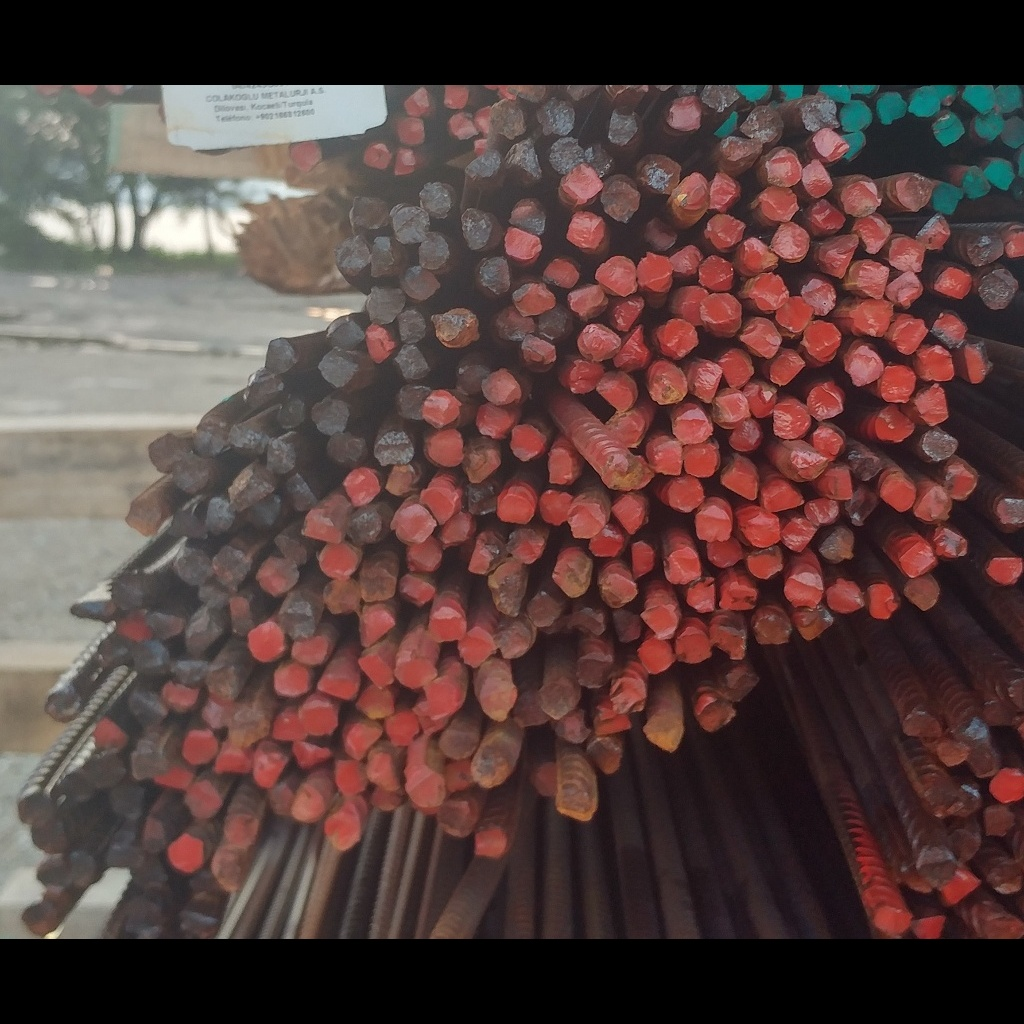dipstick: (641, 357, 695, 407), (839, 337, 887, 391), (224, 463, 275, 513), (802, 231, 864, 272), (487, 560, 532, 615), (793, 270, 842, 319), (435, 306, 485, 354), (846, 257, 898, 303), (785, 93, 843, 133), (732, 503, 782, 549), (254, 555, 306, 599), (559, 162, 612, 205), (574, 646, 621, 694), (819, 523, 865, 572), (845, 296, 894, 342), (212, 843, 257, 893), (636, 146, 681, 196), (321, 797, 363, 850), (601, 449, 658, 488), (600, 170, 641, 224), (716, 452, 763, 499), (758, 470, 807, 515), (486, 301, 538, 343), (684, 356, 732, 401), (765, 345, 814, 389), (800, 316, 843, 366), (669, 171, 711, 222), (704, 292, 747, 341), (706, 613, 748, 663), (823, 572, 865, 622), (955, 334, 996, 385), (393, 502, 439, 547), (387, 199, 434, 243), (534, 484, 578, 531), (351, 645, 399, 688), (659, 547, 707, 590), (664, 473, 707, 521), (672, 398, 715, 446), (738, 104, 787, 146), (977, 264, 1017, 315), (750, 183, 801, 223), (457, 206, 501, 252), (882, 230, 929, 273), (912, 340, 954, 388), (472, 255, 514, 303), (615, 322, 655, 372), (493, 619, 538, 663), (656, 316, 700, 361), (564, 495, 607, 541), (886, 310, 928, 357), (289, 778, 330, 826), (889, 169, 930, 217), (311, 397, 360, 437), (323, 432, 373, 471), (961, 226, 1005, 270), (606, 491, 649, 536), (553, 552, 595, 598), (913, 381, 954, 428), (515, 331, 562, 372), (743, 272, 790, 313), (214, 544, 254, 592), (806, 197, 854, 237), (838, 177, 886, 217), (298, 507, 347, 546), (392, 340, 435, 384), (244, 494, 287, 538), (693, 499, 736, 543), (739, 312, 782, 356), (535, 298, 579, 341), (565, 210, 608, 254), (596, 252, 639, 296), (849, 210, 892, 254), (754, 605, 796, 650), (879, 471, 921, 516), (979, 853, 1021, 898), (771, 444, 830, 476), (345, 190, 391, 231), (453, 350, 494, 396), (773, 294, 819, 335), (343, 716, 383, 763), (481, 671, 517, 723), (906, 572, 945, 620), (891, 538, 939, 577), (599, 559, 637, 608), (63, 594, 123, 625), (555, 779, 598, 822), (645, 710, 687, 754), (838, 484, 880, 528), (564, 354, 608, 396), (589, 522, 634, 563), (577, 318, 622, 359), (736, 234, 781, 275), (771, 220, 811, 266), (916, 780, 962, 820), (639, 635, 682, 677), (537, 93, 580, 135), (364, 285, 408, 326), (698, 698, 742, 739), (942, 461, 986, 502), (594, 371, 638, 412), (914, 213, 955, 257), (440, 726, 490, 762), (913, 425, 963, 461), (716, 342, 756, 387), (505, 194, 550, 234), (943, 863, 982, 909), (460, 149, 507, 187), (866, 579, 903, 627), (785, 567, 827, 609), (716, 130, 765, 166), (328, 755, 371, 796), (504, 527, 547, 568), (637, 599, 680, 640), (871, 405, 914, 446), (711, 388, 752, 431), (698, 253, 739, 296), (762, 145, 805, 186), (496, 480, 536, 524), (383, 705, 423, 749), (601, 677, 645, 717), (915, 481, 959, 521), (887, 269, 927, 313), (145, 434, 190, 473), (671, 280, 710, 325), (917, 843, 955, 889), (438, 799, 479, 841), (525, 588, 566, 630), (931, 262, 972, 304), (395, 651, 438, 691), (773, 398, 813, 441), (164, 830, 203, 874), (408, 763, 447, 807), (807, 419, 851, 458), (704, 210, 749, 248), (352, 607, 398, 644), (362, 744, 399, 790), (253, 740, 287, 790), (601, 409, 648, 445), (636, 249, 672, 296), (513, 284, 564, 317), (481, 367, 522, 408), (644, 436, 686, 476), (278, 470, 317, 513), (472, 748, 511, 791), (460, 625, 499, 668), (291, 135, 329, 179), (420, 482, 458, 526), (143, 603, 187, 641), (299, 696, 343, 734), (675, 624, 713, 668), (805, 383, 849, 421), (237, 371, 286, 405), (360, 322, 400, 363), (373, 426, 414, 466), (474, 398, 514, 439), (508, 422, 548, 463), (341, 467, 381, 508), (358, 561, 398, 602), (230, 702, 271, 742), (745, 378, 785, 419), (640, 212, 680, 253), (170, 456, 212, 495), (174, 543, 213, 585), (247, 620, 289, 659), (567, 277, 609, 316), (125, 495, 163, 538), (539, 676, 577, 719), (584, 733, 622, 776), (777, 511, 815, 554), (541, 248, 579, 291), (465, 439, 502, 483), (427, 424, 463, 469), (514, 684, 550, 729), (607, 603, 643, 648), (933, 308, 969, 353), (107, 784, 147, 824), (793, 604, 833, 644), (350, 505, 389, 546), (180, 781, 221, 820), (796, 157, 835, 198), (668, 94, 707, 135), (667, 238, 705, 280), (490, 98, 532, 136), (286, 630, 329, 667), (125, 690, 169, 726), (991, 485, 1024, 533), (810, 126, 854, 162), (900, 704, 944, 740), (185, 725, 220, 770), (271, 659, 311, 698), (568, 602, 607, 642), (270, 703, 308, 744), (816, 461, 854, 502), (879, 363, 917, 404), (420, 180, 457, 222), (711, 166, 744, 213), (130, 744, 173, 780), (130, 642, 174, 677), (82, 754, 126, 789), (318, 667, 362, 702), (351, 683, 395, 718), (744, 543, 788, 578), (500, 226, 544, 261), (51, 771, 90, 810), (465, 533, 504, 572), (263, 337, 301, 377), (189, 415, 227, 455), (440, 511, 478, 551), (225, 424, 271, 457), (320, 350, 361, 387), (321, 577, 362, 614), (683, 575, 720, 616), (682, 441, 724, 477), (317, 543, 361, 577), (471, 826, 515, 860), (847, 446, 886, 484), (606, 292, 645, 330), (386, 461, 422, 502), (506, 141, 542, 182), (871, 901, 913, 936), (184, 612, 218, 655), (990, 759, 1023, 803), (423, 388, 460, 427), (419, 232, 455, 272), (136, 815, 172, 855), (728, 417, 768, 453), (326, 315, 367, 350), (461, 481, 502, 516), (206, 659, 241, 700), (281, 590, 312, 636), (206, 494, 236, 541), (98, 631, 136, 668), (222, 811, 260, 848), (723, 664, 760, 702), (428, 605, 464, 644), (403, 538, 443, 573), (166, 507, 207, 541), (19, 903, 60, 937), (607, 106, 641, 147), (401, 265, 443, 298), (157, 678, 199, 711), (706, 541, 748, 574), (28, 823, 71, 855), (628, 535, 660, 578), (928, 179, 966, 215), (935, 527, 974, 562), (42, 685, 82, 719), (984, 553, 1024, 587), (293, 739, 336, 770), (394, 384, 430, 421), (550, 136, 586, 173), (373, 239, 408, 277), (262, 436, 297, 474), (399, 573, 437, 608), (837, 99, 876, 133), (336, 234, 369, 274), (594, 705, 634, 738), (547, 443, 579, 484), (982, 153, 1014, 194), (274, 532, 310, 568), (199, 697, 236, 732), (109, 573, 147, 607), (265, 784, 303, 818), (396, 306, 431, 342), (554, 709, 589, 745), (722, 577, 758, 612), (929, 111, 964, 147), (422, 679, 459, 713), (804, 494, 842, 527), (584, 139, 617, 177), (964, 745, 1003, 777), (983, 802, 1015, 841), (396, 86, 436, 117), (948, 824, 982, 860), (94, 719, 133, 750), (217, 741, 251, 776), (959, 166, 993, 201), (701, 86, 742, 115), (171, 654, 207, 687), (14, 790, 47, 826), (907, 86, 943, 119), (28, 857, 64, 889), (876, 92, 908, 128), (157, 764, 198, 792), (446, 757, 476, 795), (936, 736, 970, 769), (956, 714, 991, 746), (195, 581, 231, 612), (68, 854, 99, 890), (278, 393, 308, 430), (909, 908, 944, 939), (959, 86, 996, 115), (229, 596, 257, 634), (997, 113, 1024, 152), (445, 109, 477, 141), (973, 108, 1004, 141), (840, 128, 871, 161), (390, 114, 426, 142), (110, 835, 140, 868), (414, 707, 450, 734), (362, 140, 393, 171), (1001, 220, 1024, 261), (532, 764, 556, 798), (395, 143, 419, 176), (443, 86, 471, 112), (994, 86, 1021, 112)
